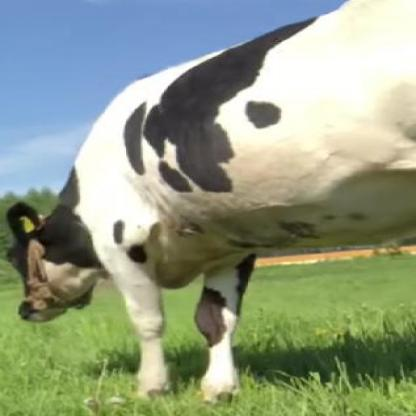cow: (11, 0, 415, 402)
